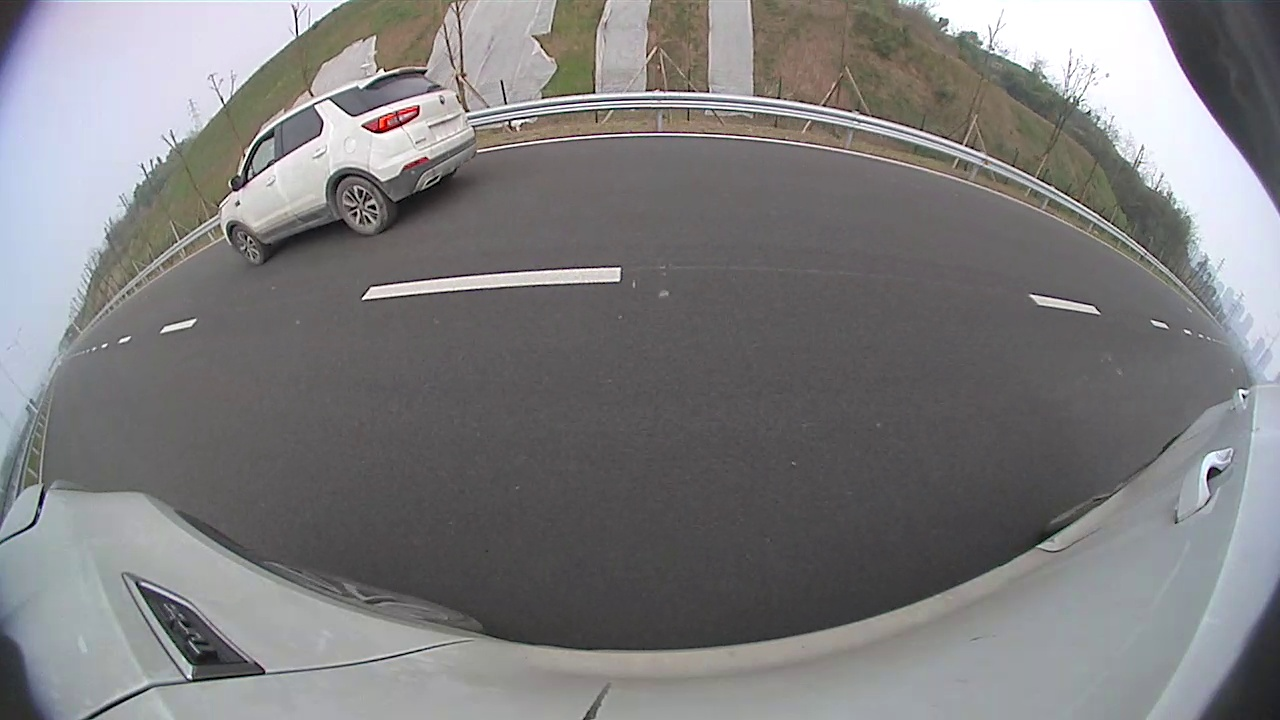car: (751, 135, 926, 233)
front: (752, 175, 773, 208)
rear: (812, 184, 845, 228)
